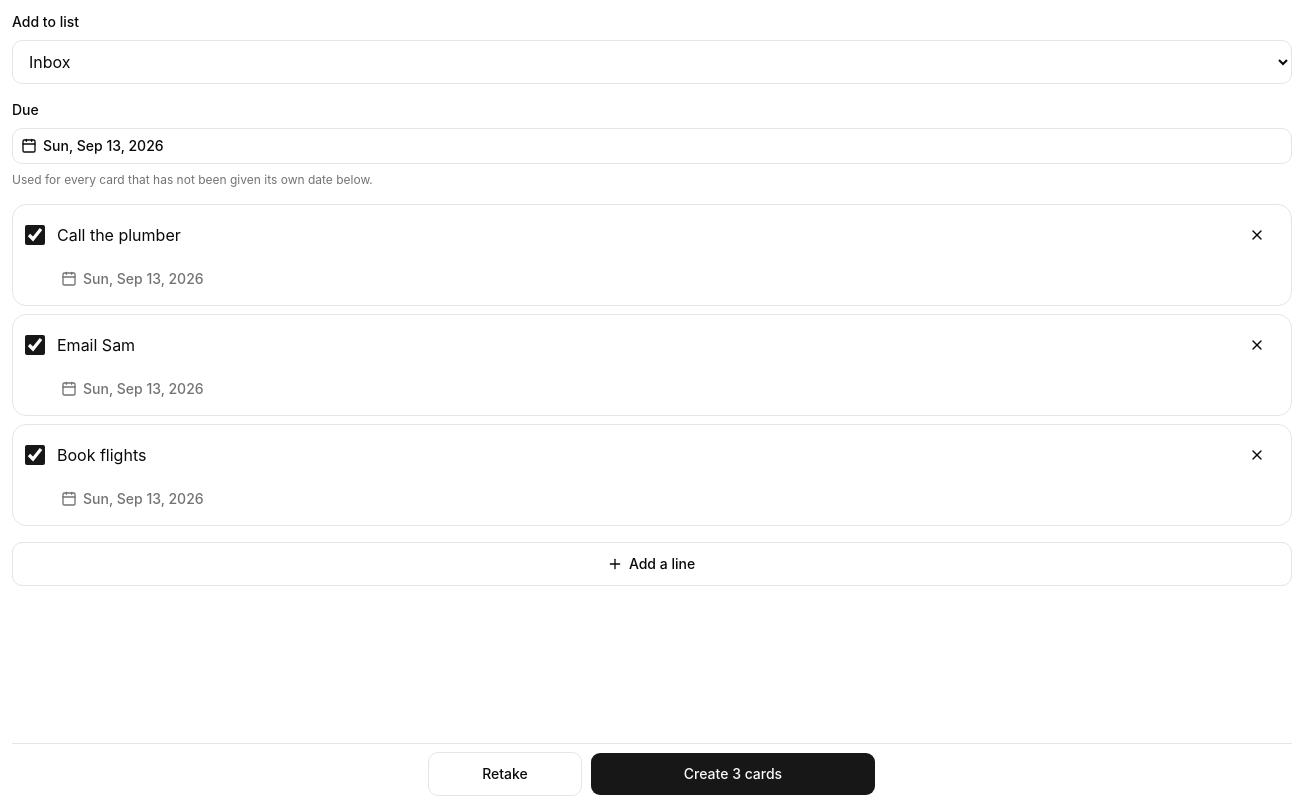
Test: CardPreviewList › updates the confirm count when a line is unchecked
Click the checkbox named "Include \"Email Sam\"": (35, 345) [25,335,45,355]
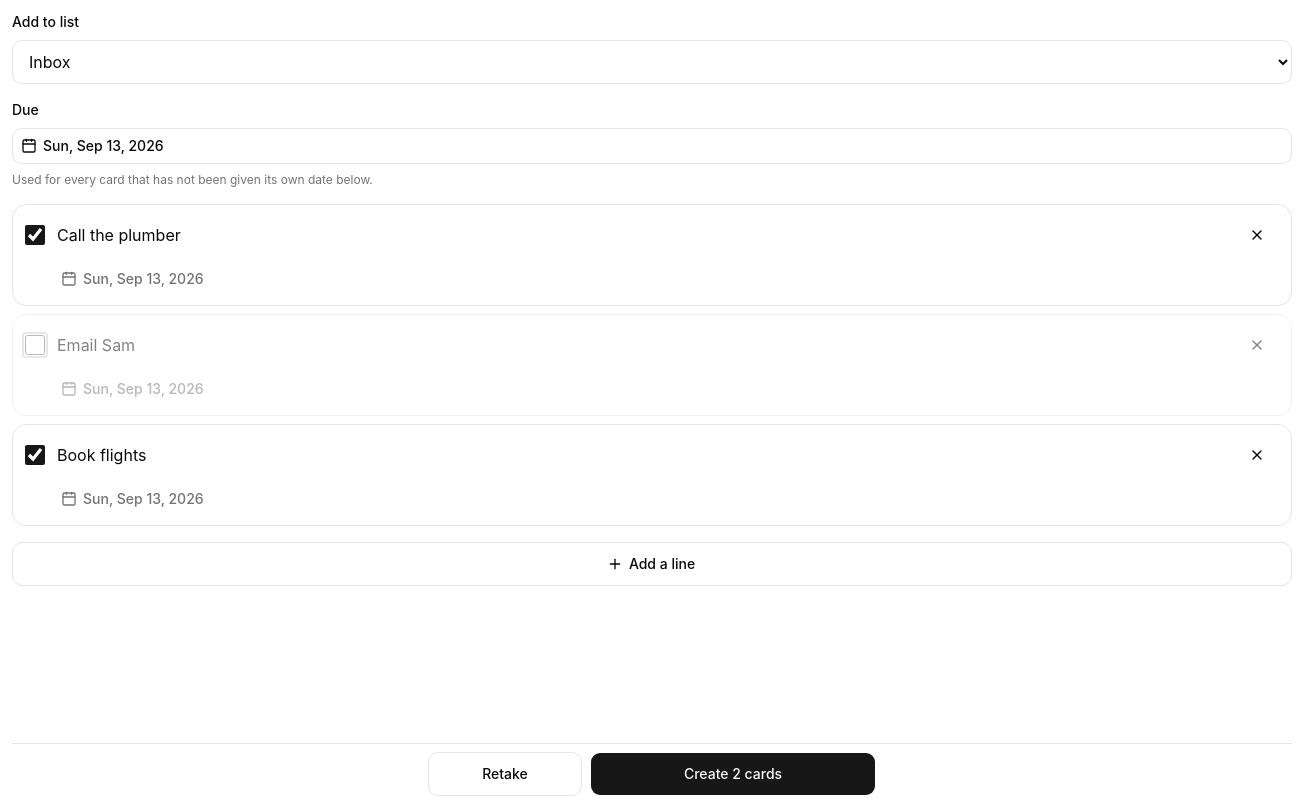
Expected: the button "Create 2 cards" is shown, [590,752,876,796]
Click the checkbox named "Include \"Book flights\"": (35, 455) [25,445,45,465]
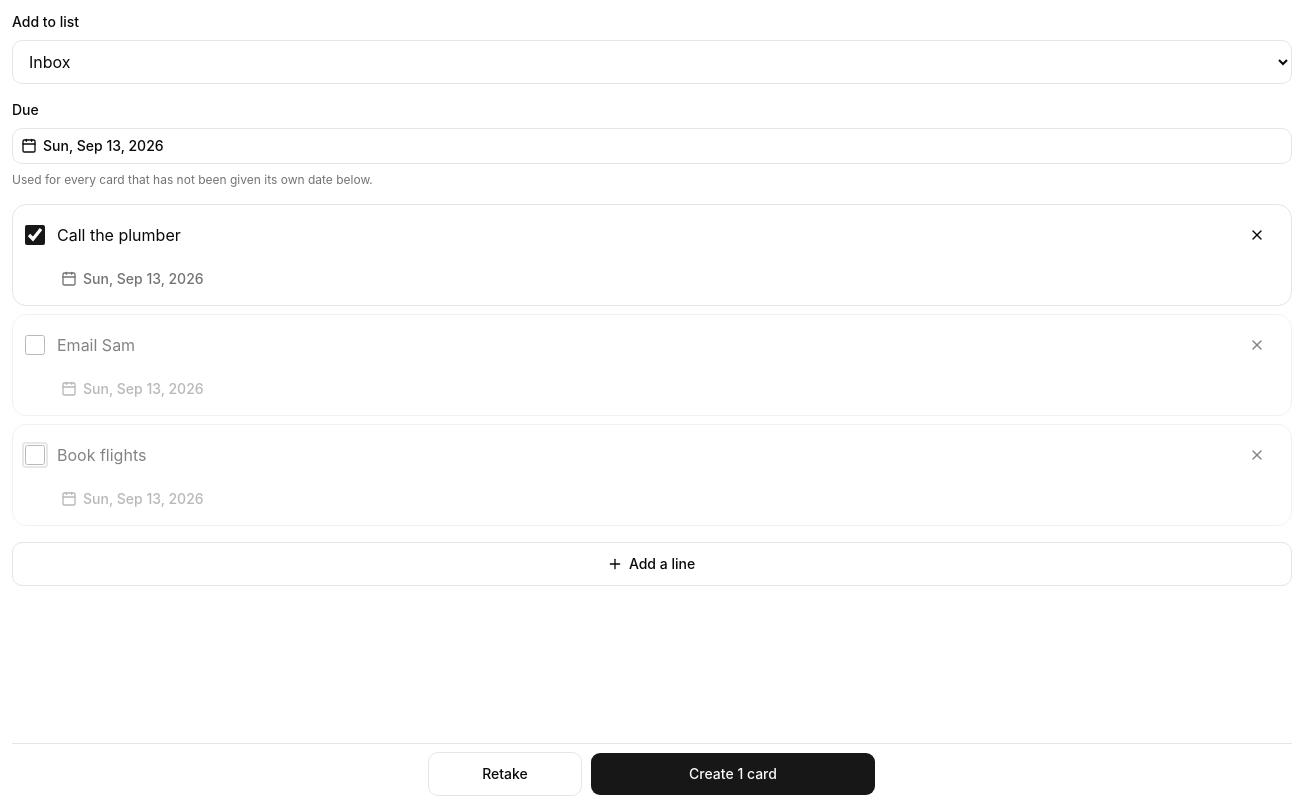
Expected: the button "Create 1 card" is shown, [590,752,876,796]
